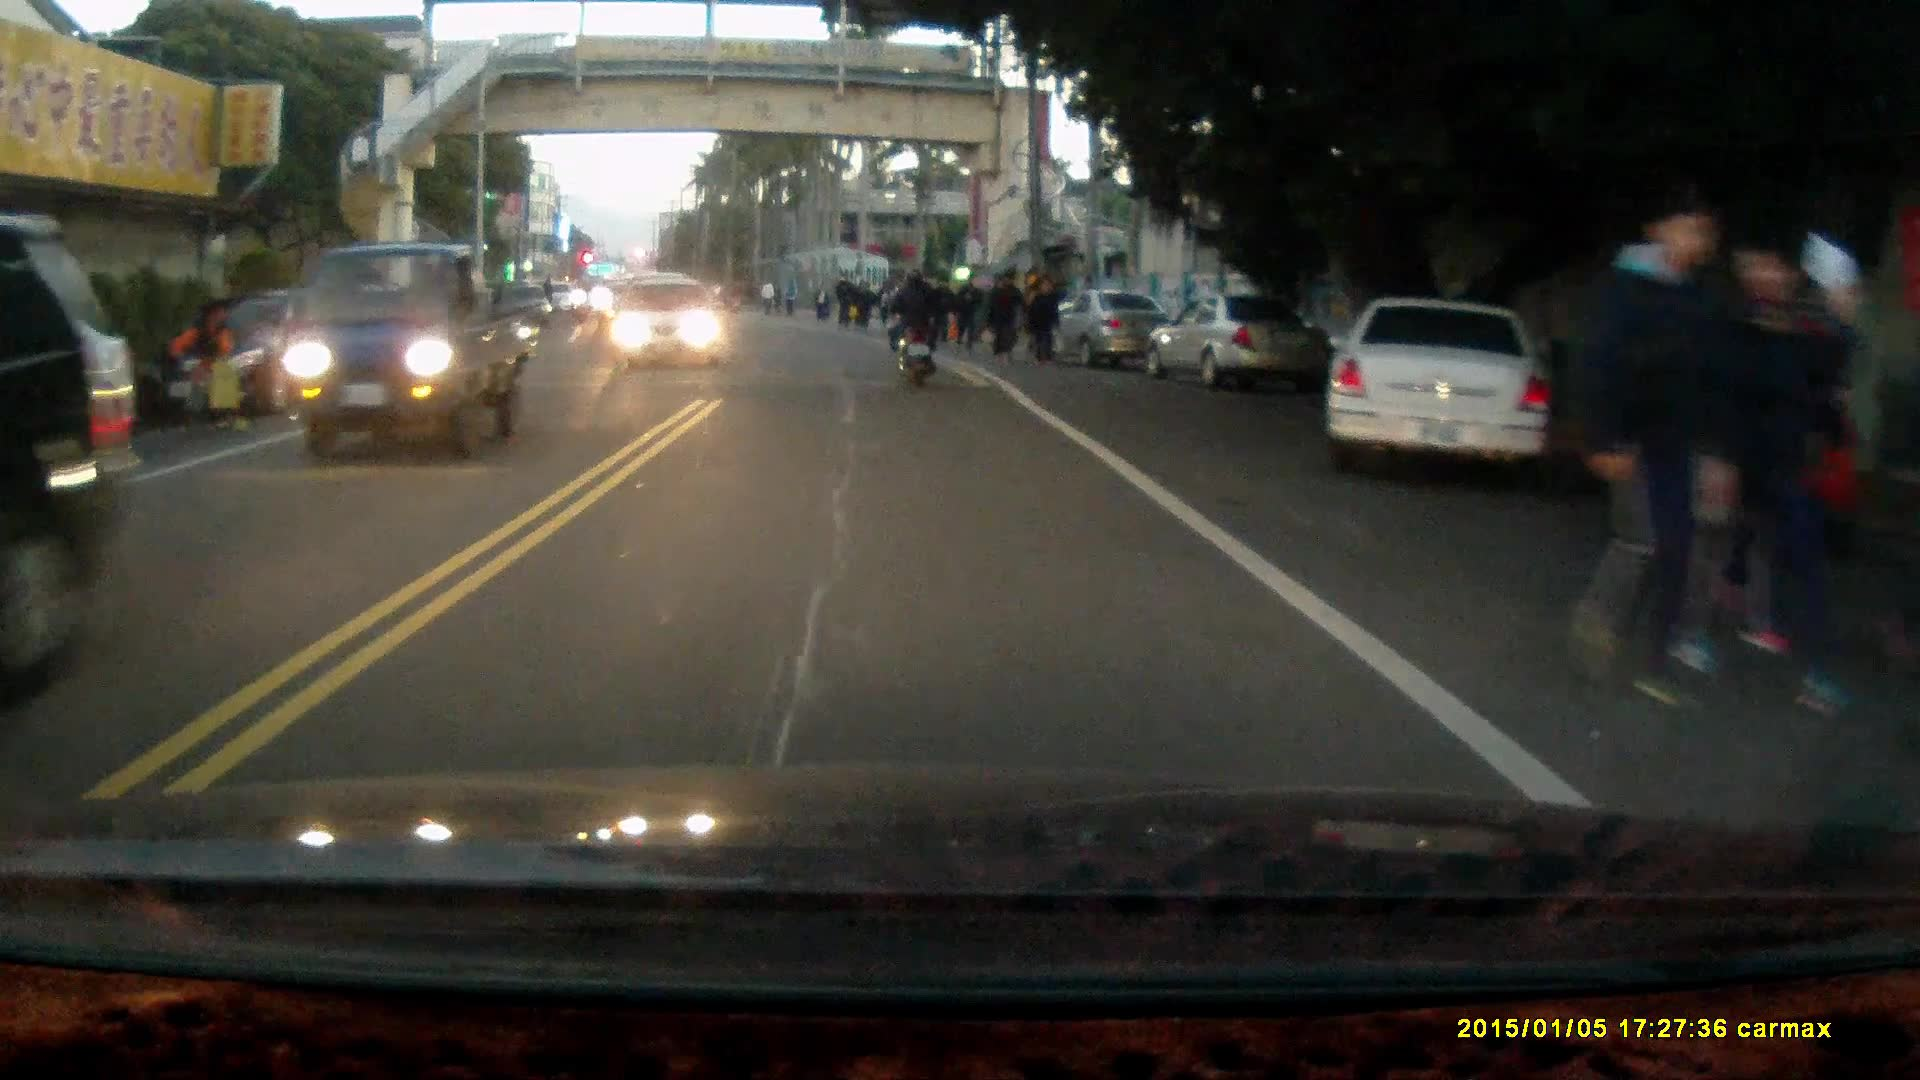pedestrian: (1671, 227, 1865, 720), (1566, 181, 1740, 704), (998, 263, 1030, 358), (986, 274, 1016, 366), (1030, 280, 1059, 359), (952, 269, 979, 347)
rider: (880, 265, 944, 389)
vehicle: (1, 213, 143, 678), (277, 241, 543, 466), (1326, 292, 1553, 469), (174, 287, 379, 421), (1154, 294, 1326, 396), (1048, 289, 1175, 370), (613, 279, 723, 368)
